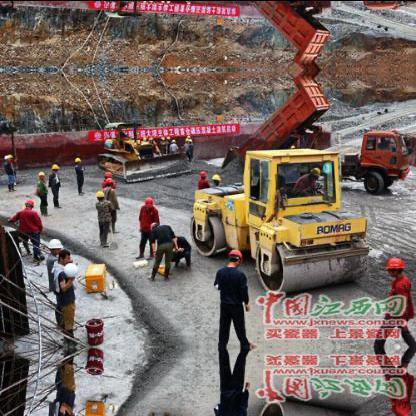Helmet: (384, 254, 407, 276), (224, 245, 244, 266), (45, 234, 63, 254), (139, 194, 155, 209), (306, 165, 322, 179), (92, 187, 106, 201), (22, 196, 34, 210), (197, 168, 209, 180), (49, 160, 61, 172), (211, 172, 221, 184), (35, 167, 47, 176), (148, 220, 158, 230), (102, 174, 112, 184), (74, 154, 82, 164)
No Helmet: (56, 245, 70, 260)
